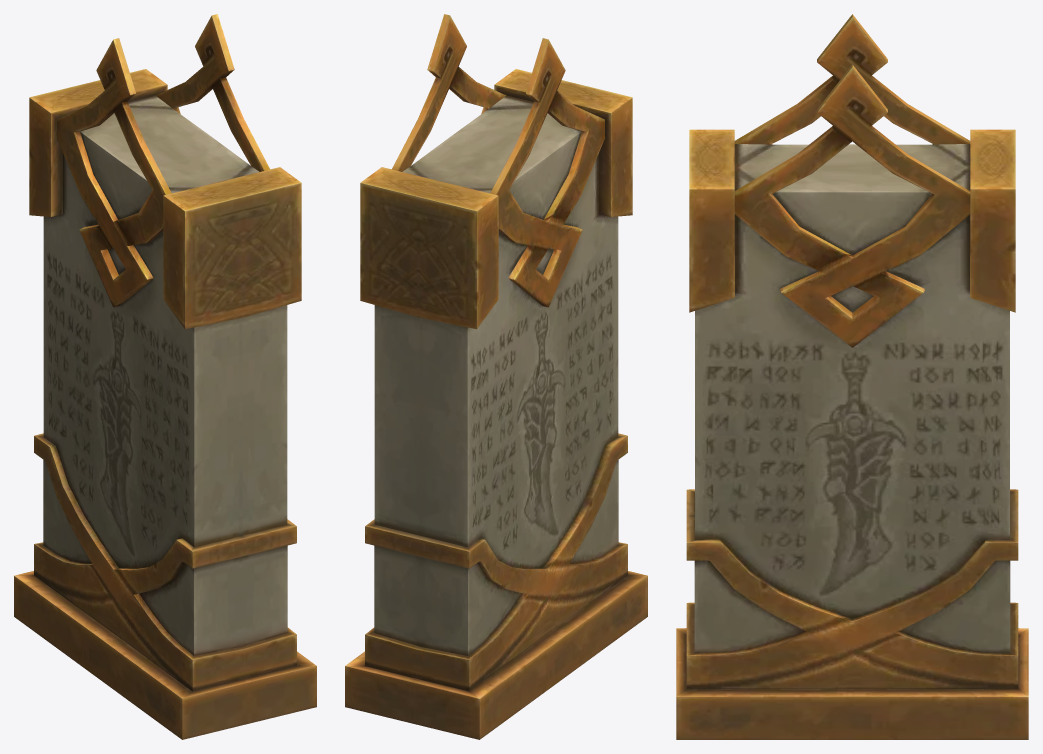
3 renders of one model, left to right at view 1: azimuth 30°, elevation 25°; view 2: azimuth 150°, elevation 25°; view 3: azimuth 270°, elevation 25°, orthographic. The views are drawn at different scales.
Size of the model in its own units: 2.4 by 10.8 by 5.19.
Materials: 1 (1 with a texture image).
